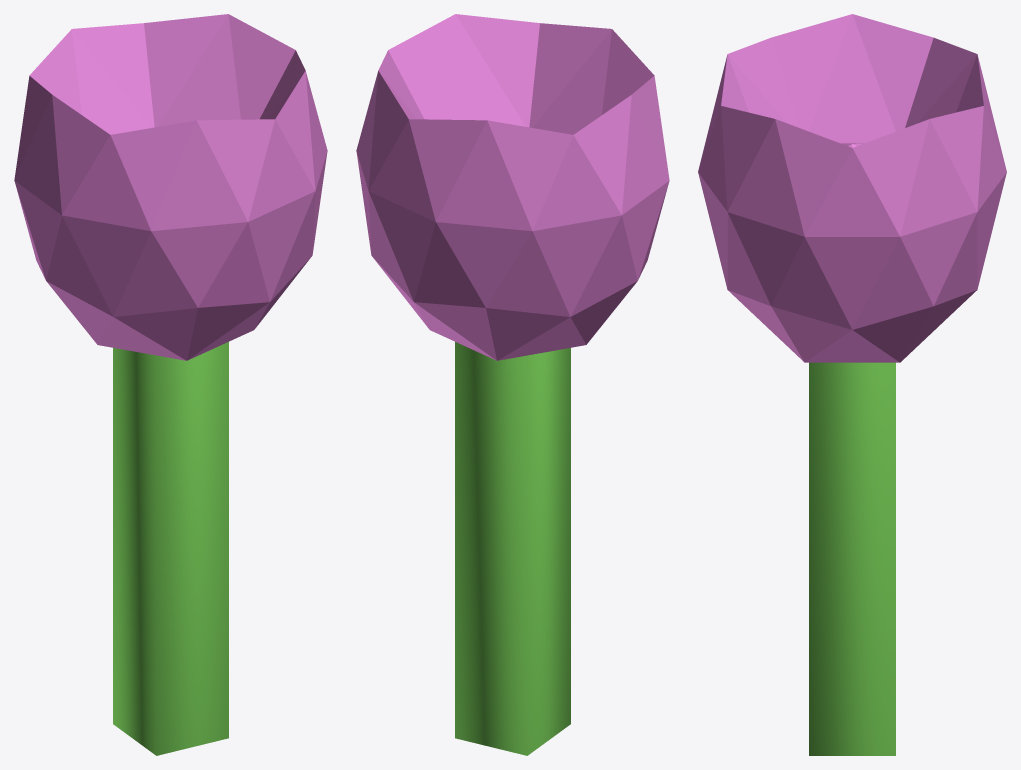
The model's file is flower.glb.
3 views of the same model, side by side, from view 1: azimuth 30°, elevation 25°; view 2: azimuth 150°, elevation 25°; view 3: azimuth 270°, elevation 25° (orthographic).
Visible parts, largest first — view 1: Icosphere, Cube; view 2: Icosphere, Cube; view 3: Icosphere, Cube.
Part boxes in pixels (x1,y1,x2,y2): Icosphere: (14,14,327,360); Cube: (113,342,228,755); Icosphere: (356,14,669,360); Cube: (455,342,570,755); Icosphere: (698,14,1006,362); Cube: (809,362,895,755).
Size of the model in its own units: 0.3147 by 0.7535 by 0.3167.
